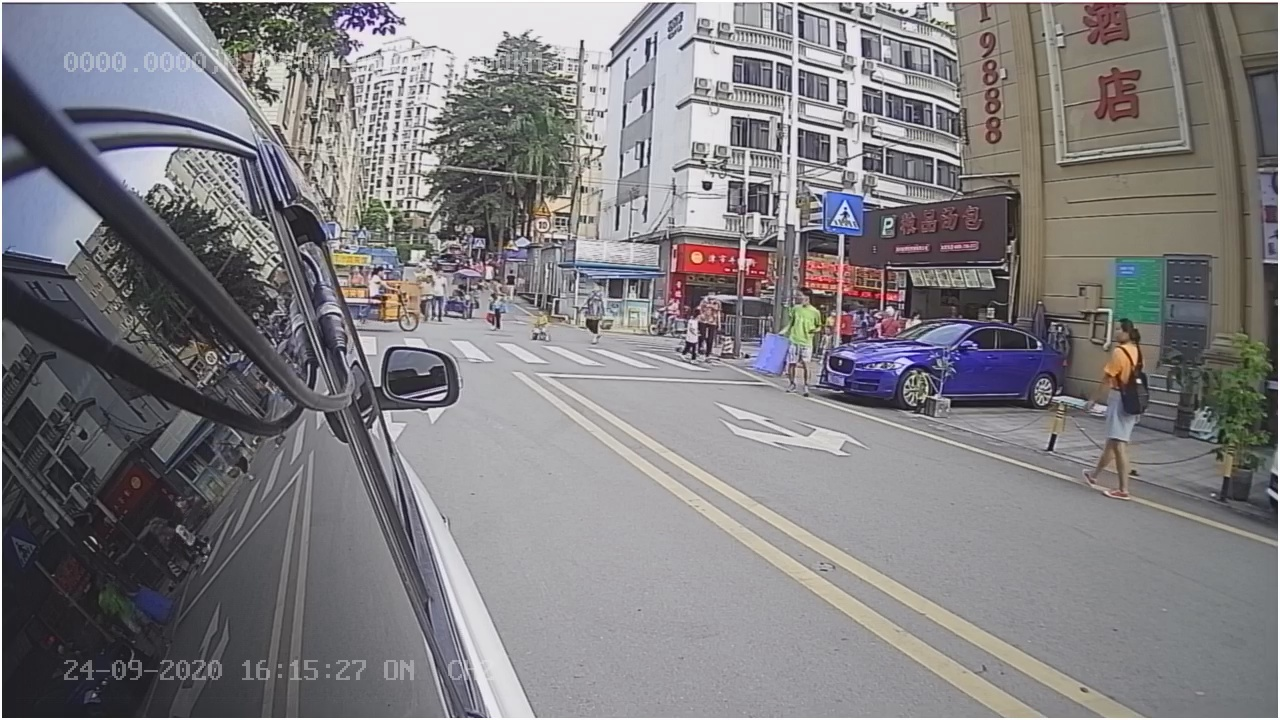person: (1068, 307, 1168, 507)
